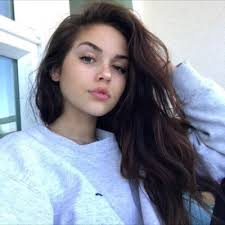GIRL: (51, 14, 141, 122)
